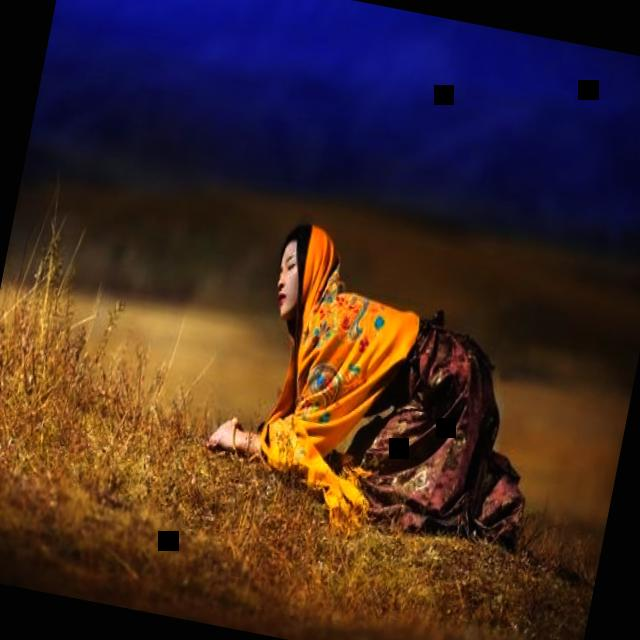Fall-Detected: (188, 200, 601, 578)
